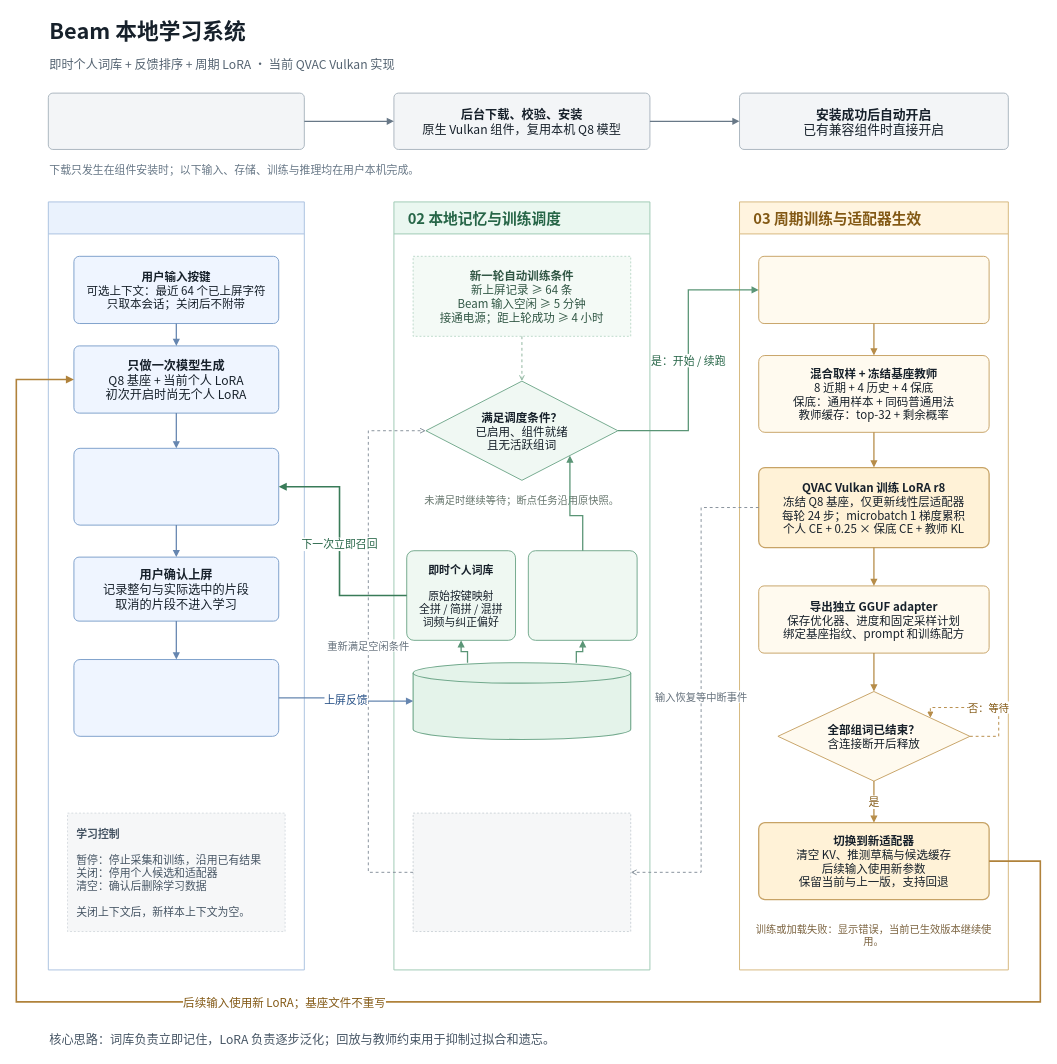
The diagram is 1057 pixels wide and 1064 high, and some of its shapes have lost their labels. The box of each missing label's shape, as (x1, y1, x2, y2) in pixels:
01 每次输入与上屏反馈: (48, 201, 305, 970)
SQLite 本地学习存储 daemon 唯一写入；事务内事件去重 词条、选择统计、样本、学习状态: (412, 662, 631, 740)
候选合并与反馈排序 模型 + 个人词库 + 雾凇 保留个人 / 普通候选及翻页 频次、近期性、上下文共同排序: (73, 448, 279, 525)
固定训练快照与拼音增强 保留原按键，补全拼 / 简拼变体 按事件采样，避免片段重复放大: (758, 256, 989, 324)
异步发送上屏反馈 仅在「开启且未暂停」时采集 按键、文本、首选、上屏前上下文 后台有界队列，不阻塞上屏: (73, 659, 279, 737)
本地样本池 近期 512 个事件 回放 4096 个事件 长期池蓄水池抽样: (528, 550, 637, 641)
输入优先：可中断、可续训 恢复输入、手动暂停或断开电源 完成当前 microbatch 后存档退出 释放训练占用的内存 再次满足空闲条件时从断点继续: (412, 812, 631, 932)
首次手动开启 菜单：下载并开启模型学习: (48, 92, 305, 150)
